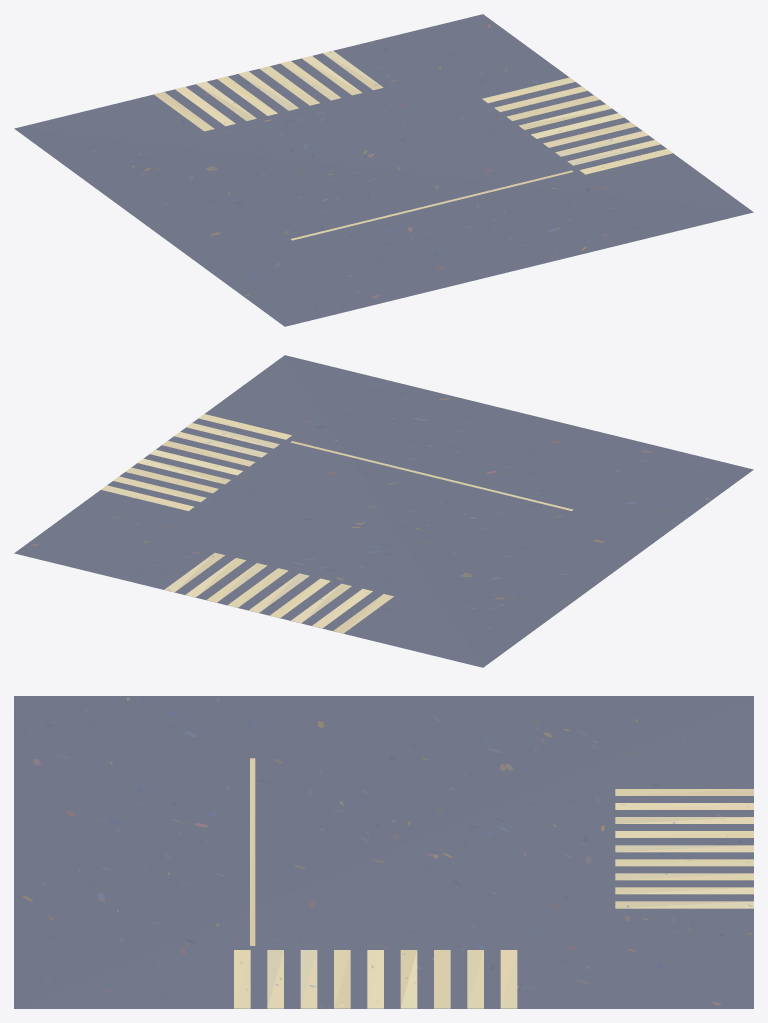
File: HK_RoadSurf_Tee.glb
3 renders of one model, top to bottom at view 1: azimuth 30°, elevation 25°; view 2: azimuth 150°, elevation 25°; view 3: azimuth 270°, elevation 25°, orthographic. The views are drawn at different scales.
Parts seen in each view (by area): view 1: HK_RoadSurf_Tee; view 2: HK_RoadSurf_Tee; view 3: HK_RoadSurf_Tee.
Part boxes in pixels (x1,y1,x2,y2): HK_RoadSurf_Tee: (14, 14, 753, 326); HK_RoadSurf_Tee: (14, 355, 753, 667); HK_RoadSurf_Tee: (14, 696, 753, 1008).
Bounding box in the file's own units: 20 × 0.0145 × 20.
